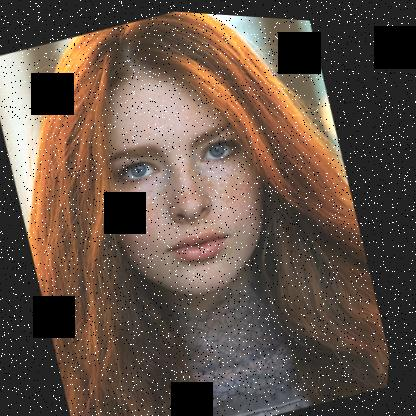Female: (68, 38, 300, 316)
